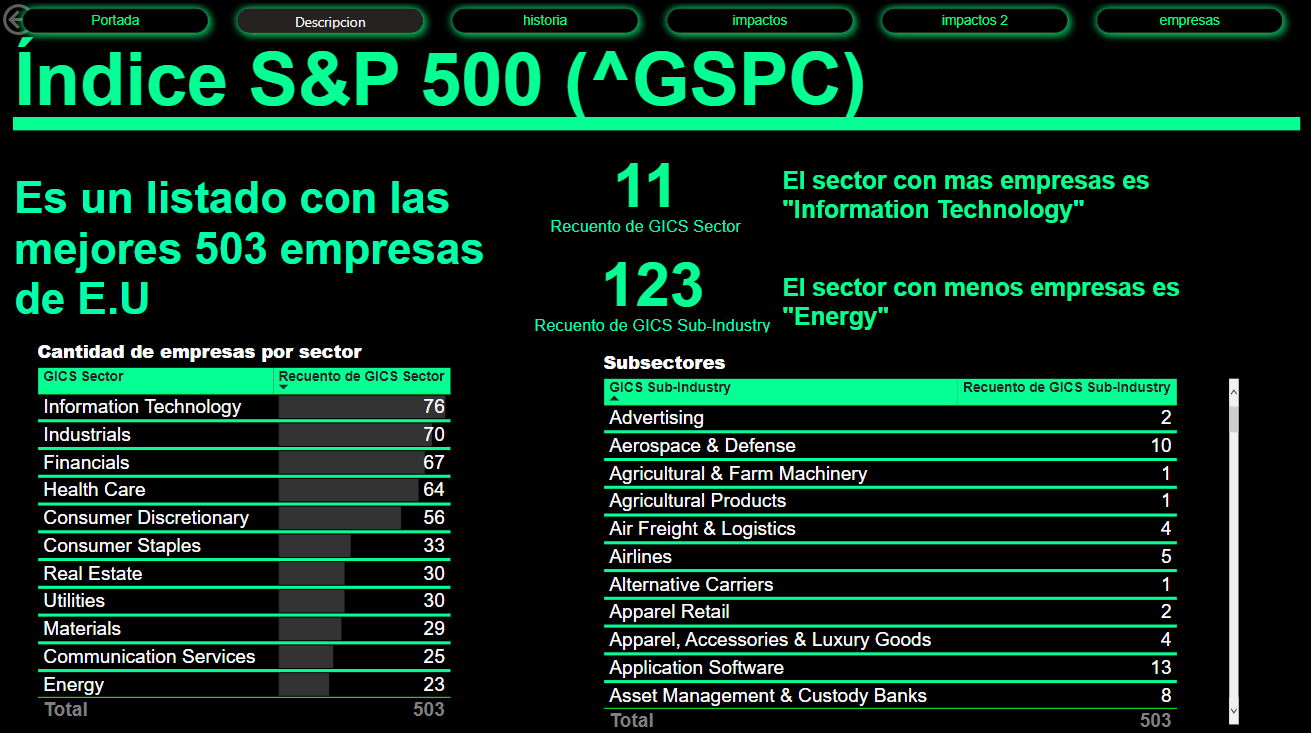

Layout of this report page (visuals, bound fields, positions):
{"tool":"powerbi","page":{"name":"Descripcion","canvas":[1280,720],"ordinal":1},"visuals":[{"type":"tableEx","title":"Cantidad de empresas por sector ","fields":{"Values":["EmpresasS&P500.GICS Sector","CountNonNull(EmpresasS&P500.GICS Sector)"]},"box":[33.1,329.7,414.3,379.3],"z":0},{"type":"textbox","box":[10.7,32.1,1037.8,116.7],"z":1000},{"type":"shape","box":[14.6,114.8,1251.8,12.6],"z":2000},{"type":"textbox","box":[10.7,164.4,504.8,193.6],"z":3000},{"type":"tableEx","title":"Subsectores","fields":{"Values":["EmpresasS&P500.GICS Sub-Industry","CountNonNull(EmpresasS&P500.GICS Sub-Industry)"]},"box":[583.6,340.4,628.3,379.3],"z":4000},{"type":"card","fields":{"Values":["Count(EmpresasS&P500.GICS Sector)"]},"box":[515.5,136.2,228.6,97.3],"z":5000},{"type":"actionButton","box":[0,0,100,40],"z":6000},{"type":"card","fields":{"Values":["Count(EmpresasS&P500.GICS Sub-Industry)"]},"box":[492.2,232.5,288.9,97.3],"z":7000},{"type":"textbox","box":[757.7,157.6,426,84.6],"z":8000},{"type":"textbox","box":[757.7,261.6,422.1,78.8],"z":9000},{"type":"pageNavigator","box":[14.6,0,1249.8,42.8],"z":10000}]}

Visuals, with their boxes in screenshot pixels (x1, y1, x2, y2), scaled from the page's 1280x720 canvas onto the 1311x733 screenshot:
"Cantidad de empresas por sector " tableEx: 34,336,458,722
textbox: 11,33,1074,151
shape: 15,117,1297,130
textbox: 11,167,528,364
"Subsectores" tableEx: 598,347,1241,732
card - Count(EmpresasS&P500.GICS Sector): 528,139,762,238
actionButton: 0,0,102,41
card - Count(EmpresasS&P500.GICS Sub-Industry): 504,237,800,336
textbox: 776,160,1212,247
textbox: 776,266,1208,347
pageNavigator: 15,0,1295,44
